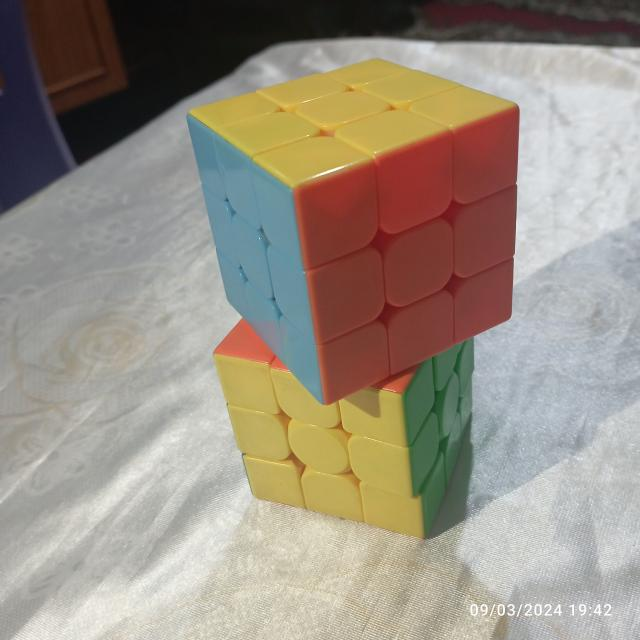Rub: (181, 53, 524, 408), (210, 294, 483, 541)
